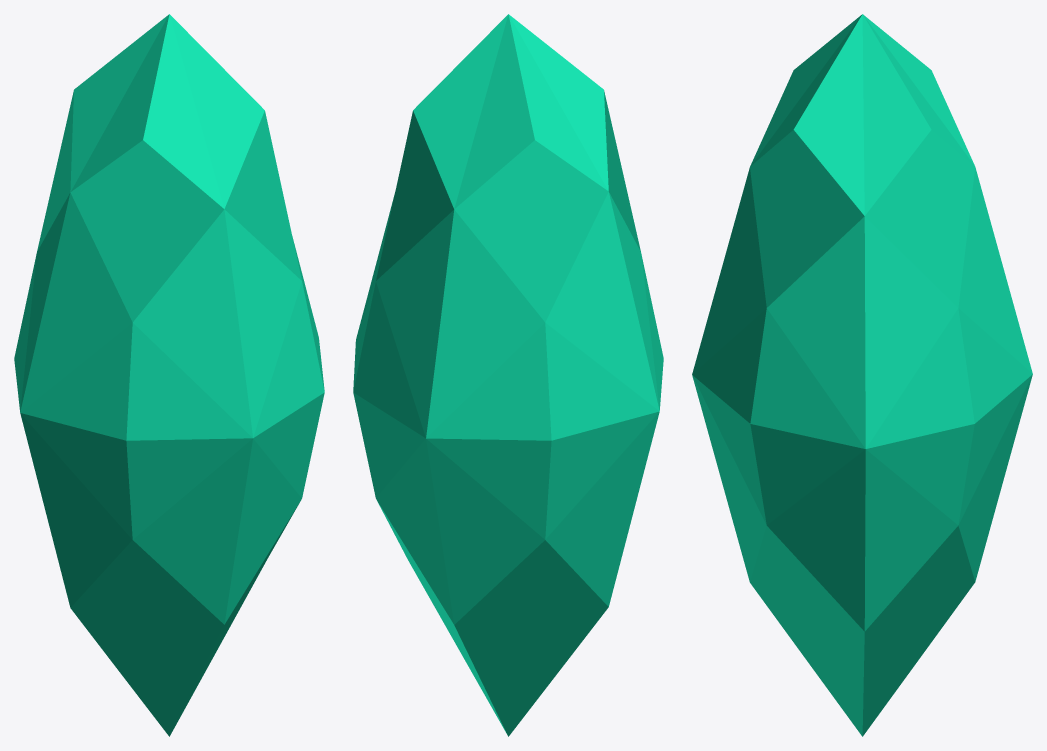
Rendered from Mana Stone2.fbx.
3 renders of one model, left to right at view 1: azimuth 30°, elevation 25°; view 2: azimuth 150°, elevation 25°; view 3: azimuth 270°, elevation 25°, orthographic.
Visible parts, largest first — view 1: Box002; view 2: Box002; view 3: Box002.
Boxes of the visible parts, x1=… form: Box002: x1=14, y1=14, x2=324, y2=736; Box002: x1=353, y1=14, x2=663, y2=736; Box002: x1=692, y1=14, x2=1032, y2=736.
Size of the model in its own units: 11.37 by 26.06 by 11.14.
